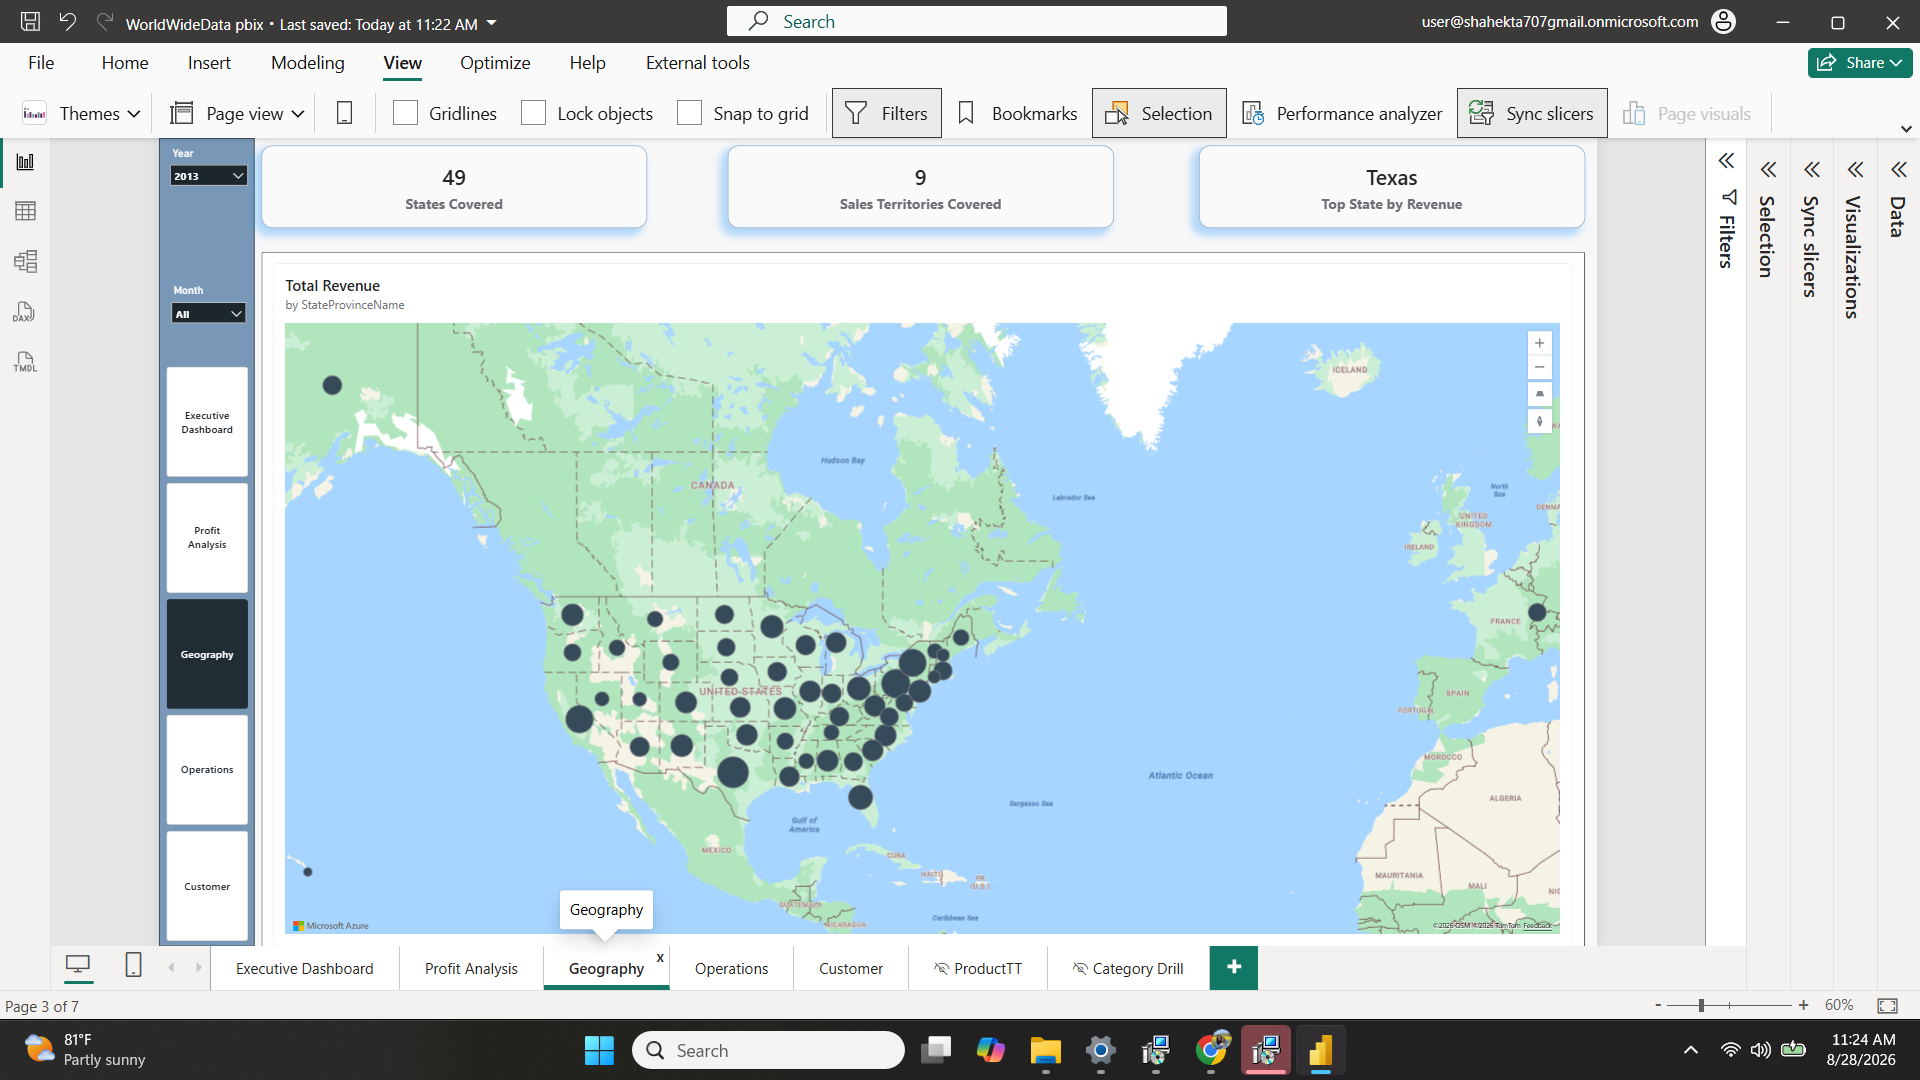

Layout of this report page (visuals, bound fields, positions):
{"tool":"powerbi","page":{"name":"Geography","canvas":[1920,1080],"ordinal":2},"visuals":[{"type":"shape","box":[0,0,127.7,1079.9],"z":0},{"type":"shape","title":"Shape Line","box":[136.3,151.5,1768.1,930.6],"z":1000},{"type":"azureMap","fields":{"Category":["Dim_ Customers.StateProvinceName"],"Size":["_Measures.Total Revenue"]},"box":[151.5,166.6,1735.6,913.3],"z":2000},{"type":"card","title":"Top Product by Profit","fields":{"Values":["_Measures.States Covered"]},"box":[136.3,10.8,515,110],"z":3000},{"type":"card","title":"Top Product by Profit","fields":{"Values":["_Measures.Sales Territories Covered"]},"box":[759.6,10.8,515.8,110.4],"z":4000},{"type":"card","title":"Top Product by Profit","fields":{"Values":["_Measures.Top State by Revenue"]},"box":[1389.4,10.8,515.8,110.4],"z":5000},{"type":"pageNavigator","box":[10.5,305.2,109.9,770.9],"z":5001},{"type":"slicer","fields":{"Values":["Dim_Date.Year"]},"box":[10.5,12.2,114,63.3],"z":5002},{"type":"slicer","fields":{"Values":["Dim_ Customers.AccountOpenedDate.Variation.Date Hierarchy.Month"]},"box":[12.2,195.3,109.9,52.3],"z":5003}]}

Visuals, with their boxes on the page's 1920x1080 design canvas (x1, y1, x2, y2). These are canvas units, not pixel positions in the 1920x1080 screenshot, which may show the page scaled, cropped or inside an application window:
shape: BBox(0, 0, 128, 1080)
"Shape Line" shape: BBox(136, 152, 1904, 1082)
azureMap - Dim_ Customers.StateProvinceName x _Measures.Total Revenue: BBox(152, 167, 1887, 1080)
"Top Product by Profit" card: BBox(136, 11, 651, 121)
"Top Product by Profit" card: BBox(760, 11, 1275, 121)
"Top Product by Profit" card: BBox(1389, 11, 1905, 121)
pageNavigator: BBox(10, 305, 120, 1076)
slicer - Dim_Date.Year: BBox(10, 12, 124, 76)
slicer - Dim_ Customers.AccountOpenedDate.Variation.Date Hierarchy.Month: BBox(12, 195, 122, 248)
